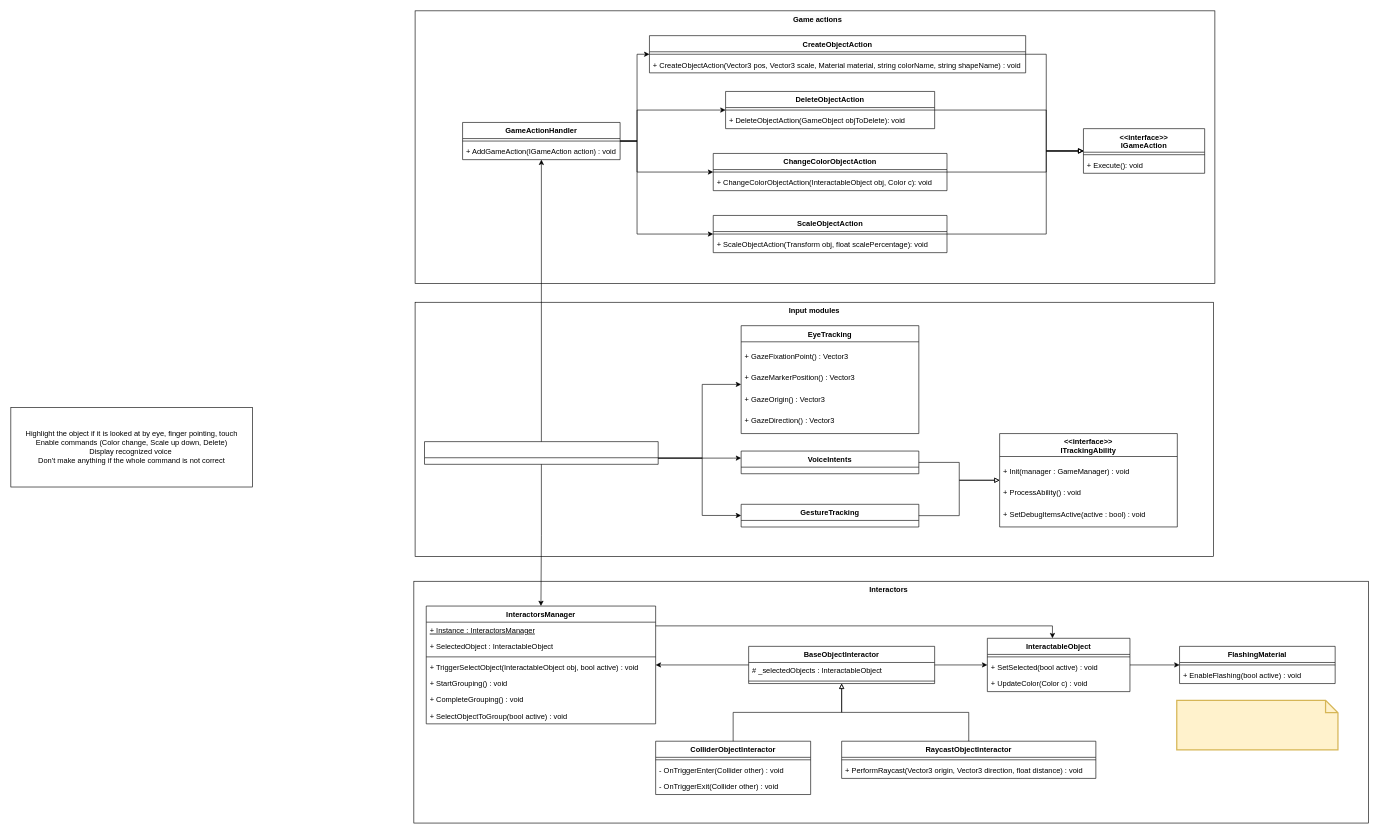
This 1380x834 diagram has some shape labels left out. The shapes that lost their labels are listed below. From the top down, each one's centre as x and y in pixels, then its label:
pixel 541 452: InputEventHandler
pixel 1257 724: For flashing the material of Interactable objects
